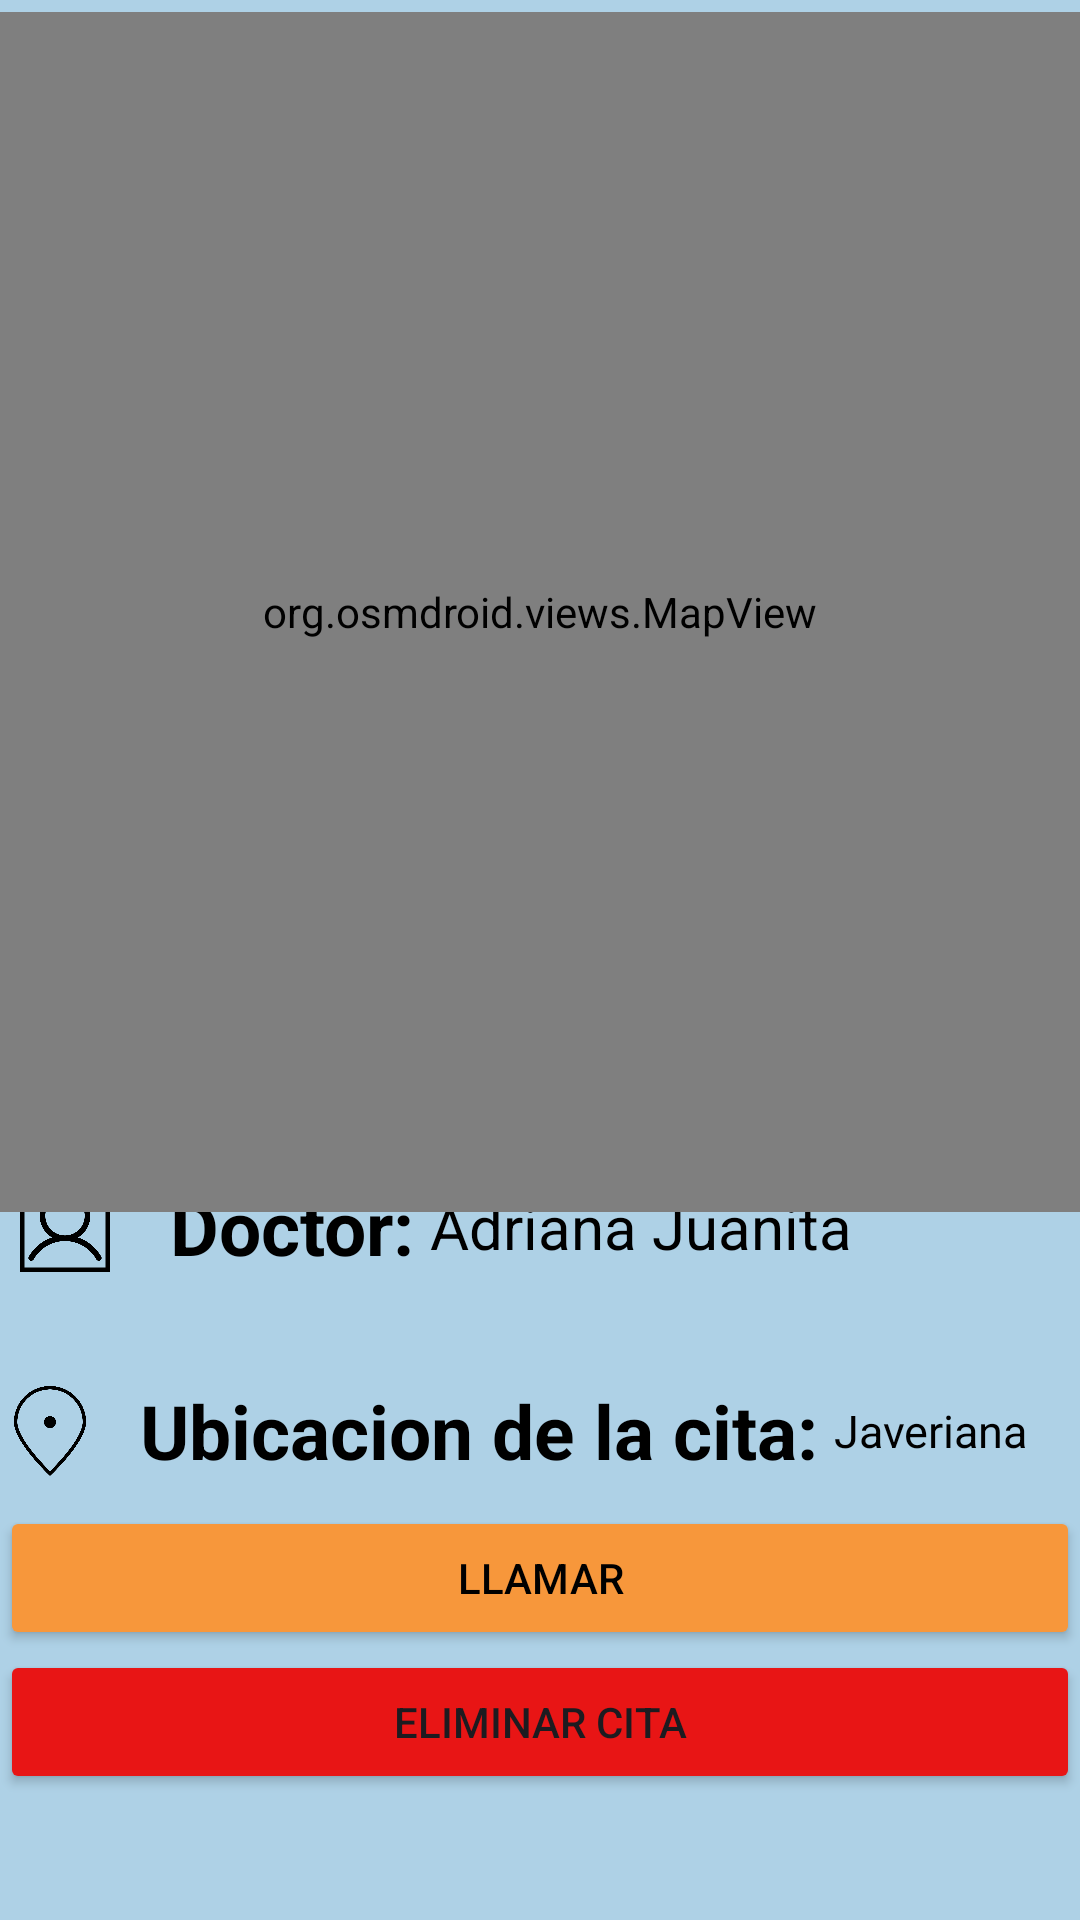

Point at icon controls on the screen. Image size 1080px x 1920px, points as [x,y].
iconpinalt: [50,1431]
phuser: [65,1227]
